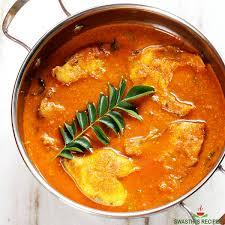Fish Curry: (21, 14, 213, 209)
